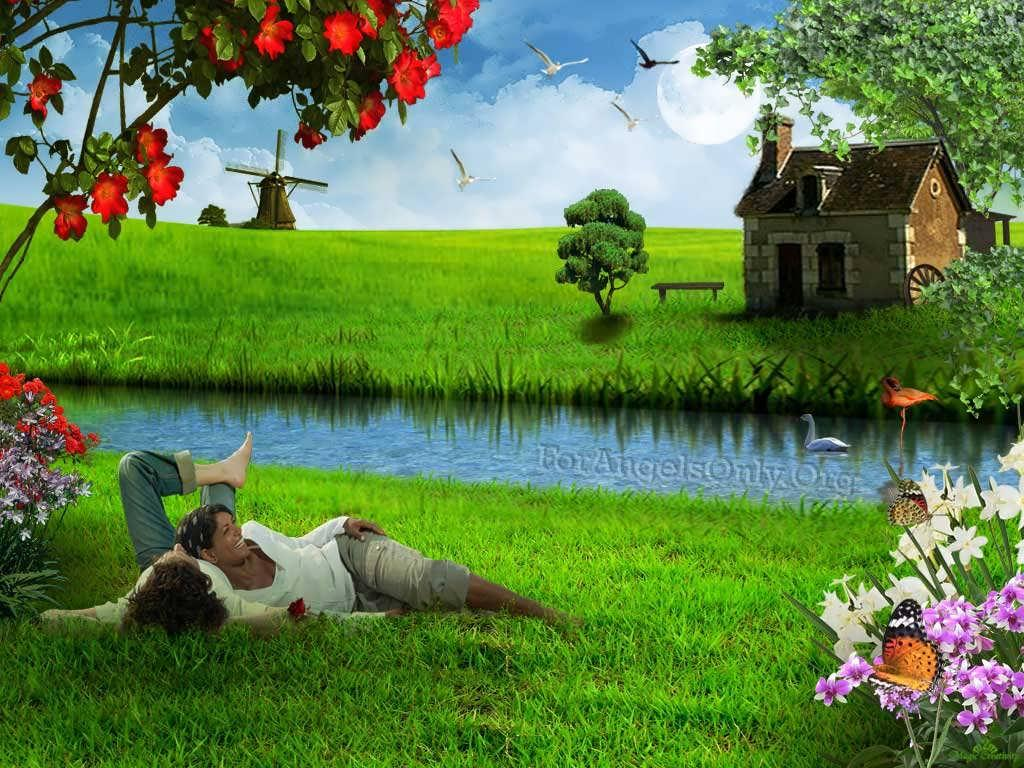face: (215, 510, 249, 560), (155, 543, 199, 569)
